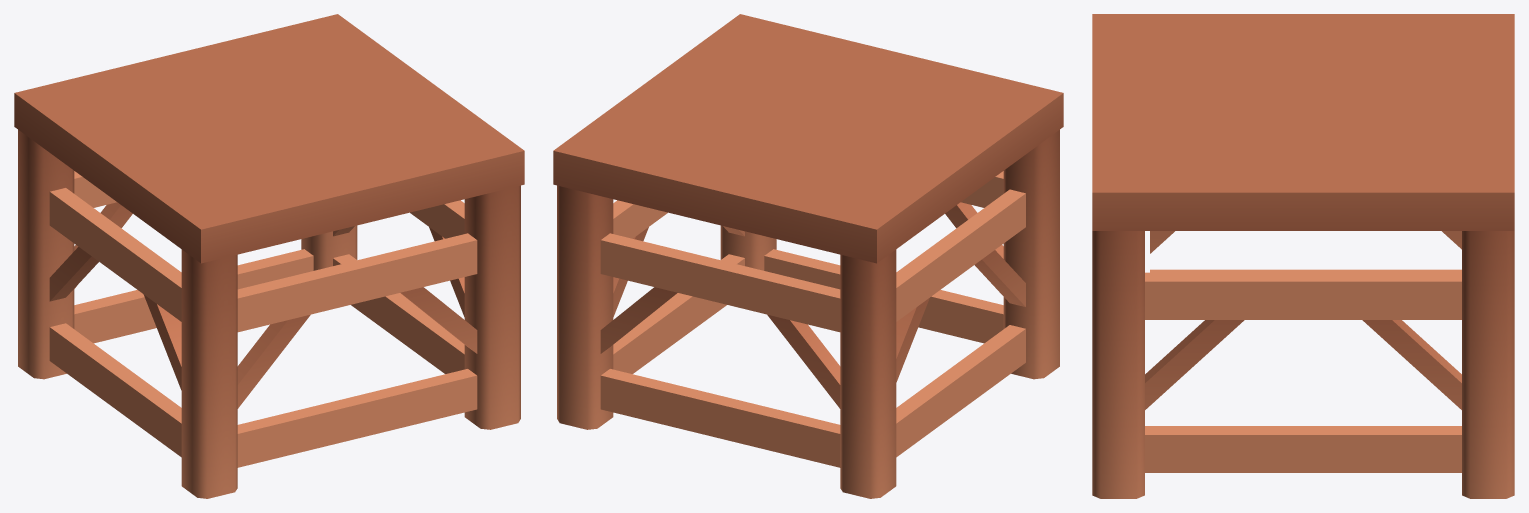
Rendered from structure-wood-platform.fbx.
The picture shows the model from 3 angles, left to right: view 1: azimuth 30°, elevation 25°; view 2: azimuth 150°, elevation 25°; view 3: azimuth 270°, elevation 25°; orthographic projection. The views are drawn at different scales.
Parts seen in each view (by area): view 1: structure-wood-platform; view 2: structure-wood-platform; view 3: structure-wood-platform.
Part boxes in pixels (left/top/right/bottom): structure-wood-platform: left=14, top=14, right=524, bottom=498; structure-wood-platform: left=553, top=14, right=1063, bottom=498; structure-wood-platform: left=1092, top=14, right=1514, bottom=498.
Size of the model in its own units: 100 by 80 by 100.
Materials: 1 (1 with a texture image).
